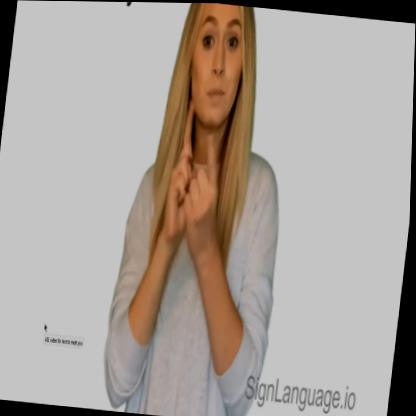NiceToMeetYou: (147, 88, 258, 283)
